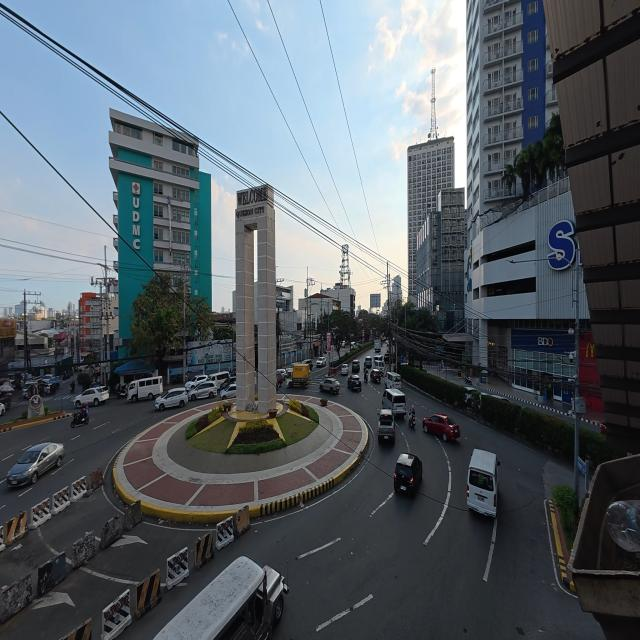Jeepneys: (155, 557, 288, 639)
car: (7, 443, 64, 486), (394, 453, 422, 495), (423, 414, 460, 441), (155, 387, 188, 411), (74, 387, 109, 408), (378, 409, 394, 444), (188, 381, 217, 400), (185, 374, 208, 392), (320, 378, 340, 394), (465, 387, 479, 408), (220, 383, 236, 400), (23, 380, 38, 398), (220, 376, 236, 390), (348, 375, 361, 391), (370, 369, 381, 383), (276, 370, 284, 386), (302, 359, 313, 370), (351, 360, 360, 372), (316, 357, 326, 367), (42, 374, 53, 383), (276, 368, 286, 377), (285, 367, 292, 379), (365, 356, 372, 368), (341, 364, 348, 375), (600, 423, 606, 435), (0, 403, 5, 416), (384, 352, 389, 363), (350, 341, 355, 350), (341, 341, 345, 347)
motorcycle: (71, 412, 89, 427), (0, 396, 11, 409), (116, 385, 127, 398), (409, 415, 415, 429), (465, 375, 472, 384), (70, 381, 75, 392), (365, 370, 368, 383)
trucks: (288, 364, 310, 387), (375, 340, 381, 353)
vans: (467, 449, 499, 517), (128, 377, 163, 401), (382, 389, 406, 416), (208, 372, 229, 389), (385, 372, 401, 389), (374, 357, 384, 370)
